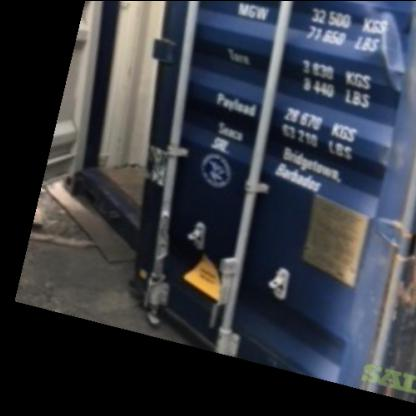Damage: (372, 8, 414, 92)
